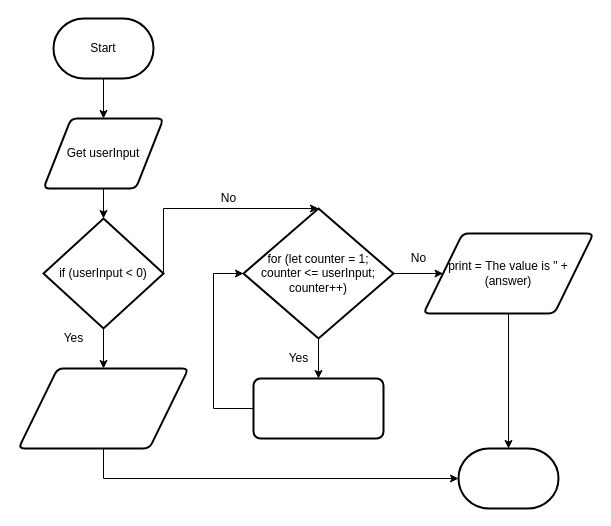
Some shapes in this 611 by 526 pixel diagram are drawn without their labels. The shapes that lost their labels are listed below. From the top down, each one's centre as x and y in pixels, then its label:
[103,408]: print = "Please input a positive whole number!"
[318,408]: answer += counter
[508,478]: Stop
